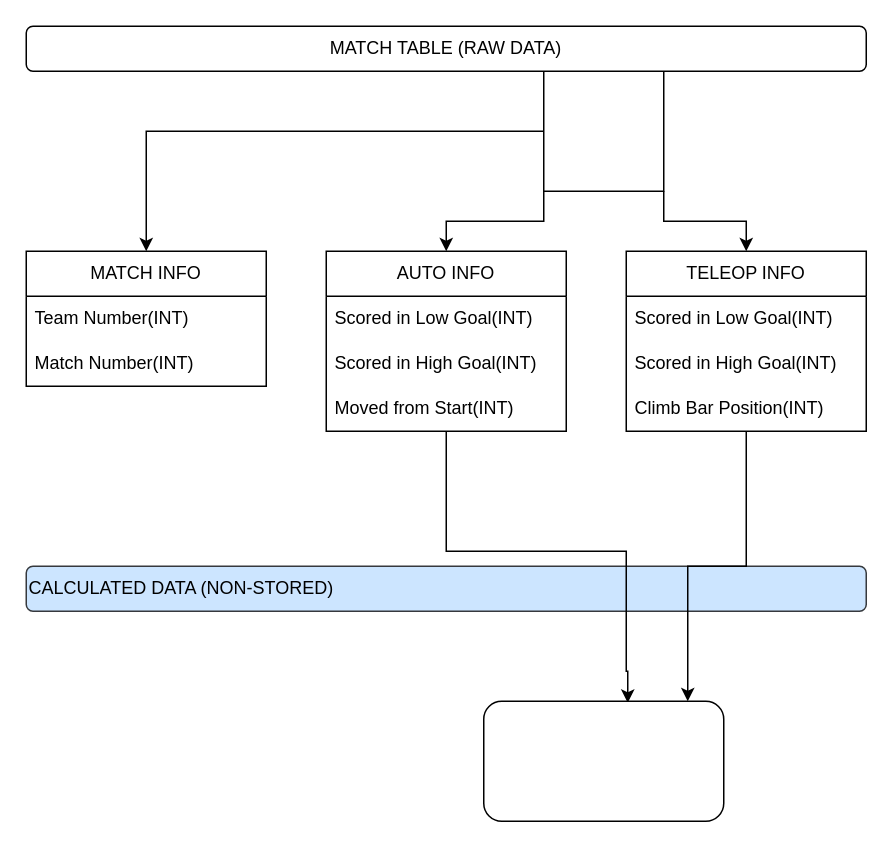
Image size: 893x848. Some labels were removed from this diagram. The centre of each missing label's shape, as x and y in pixels:
"PRIMARY KEY" belongs at point (603, 130).
"TOTAL SCORE" belongs at point (603, 760).
